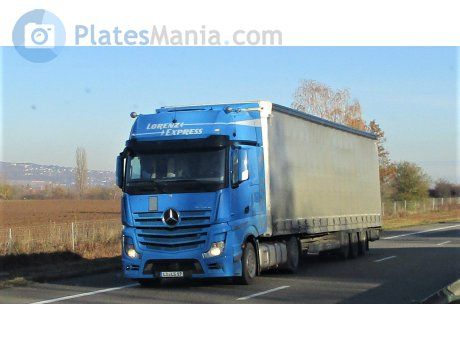License Plates: (159, 270, 185, 279)
